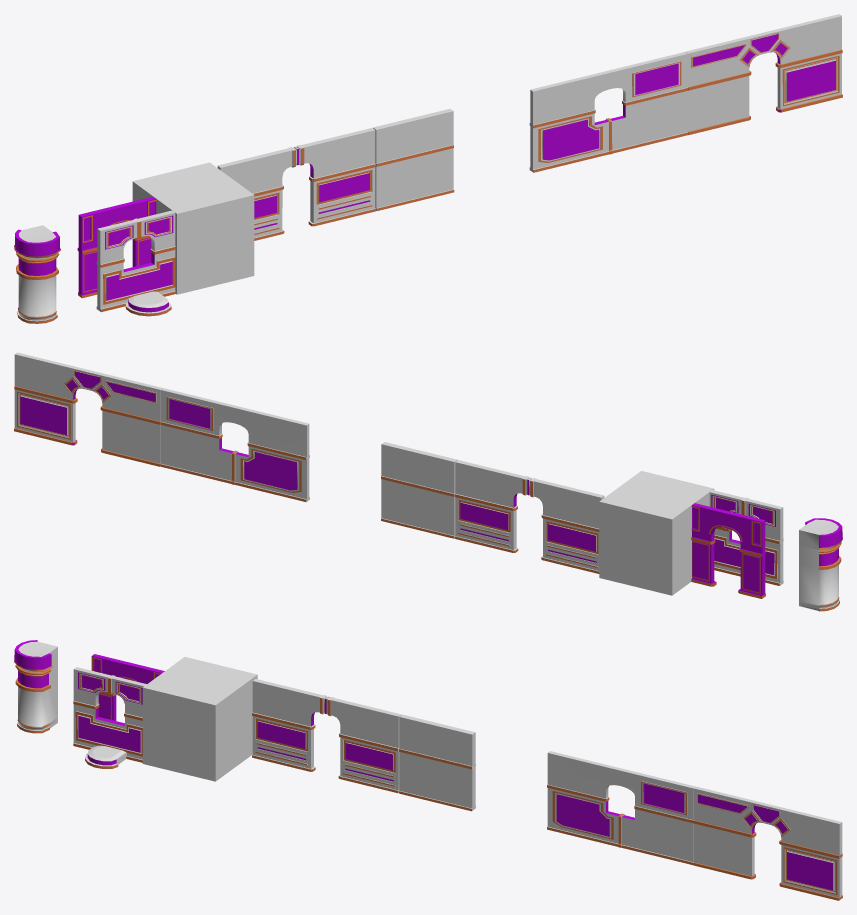
File: Blockout_Archi.fbx
The picture shows the model from 3 angles, top to bottom: view 1: azimuth 30°, elevation 25°; view 2: azimuth 150°, elevation 25°; view 3: azimuth 330°, elevation 25°; orthographic projection. The views are drawn at different scales.
Parts seen in each view (by area): view 1: Window_2, Door_2, Cube_5*5, Wall, Right_Door, Window_1, Pillar, Left_Door, Door_1, Round_Wall; view 2: Window_2, Door_2, Cube_5*5, Wall, Right_Door, Left_Door, Door_1, Pillar, Window_1; view 3: Cube_5*5, Window_2, Door_2, Wall, Left_Door, Right_Door, Window_1, Pillar, Door_1, Round_Wall.
Part boxes in pixels (x1,y1,x2,y2): Window_2: (529,52,687,172); Door_2: (685,14,842,135); Cube_5*5: (132,162,254,294); Wall: (373,109,454,210); Right_Door: (295,128,375,226); Window_1: (96,210,175,312); Pillar: (14,225,60,323); Left_Door: (217,146,297,240); Door_1: (77,196,156,298); Round_Wall: (125,291,171,316); Window_2: (160,388,309,501); Door_2: (14,352,162,466); Cube_5*5: (599,471,714,595); Wall: (381,442,457,538); Right_Door: (454,460,530,552); Left_Door: (528,478,604,573); Door_1: (691,503,765,598); Pillar: (799,518,842,611); Window_1: (709,490,783,585); Cube_5*5: (142,657,257,781); Window_2: (547,751,695,864); Door_2: (693,786,842,900); Wall: (399,714,475,811); Left_Door: (252,679,328,771); Right_Door: (325,696,401,793); Window_1: (73,667,146,762); Pillar: (14,640,57,733); Door_1: (91,654,164,720); Round_Wall: (85,745,126,768).
Bounding box in the file's own units: 5484 × 501 × 684.
